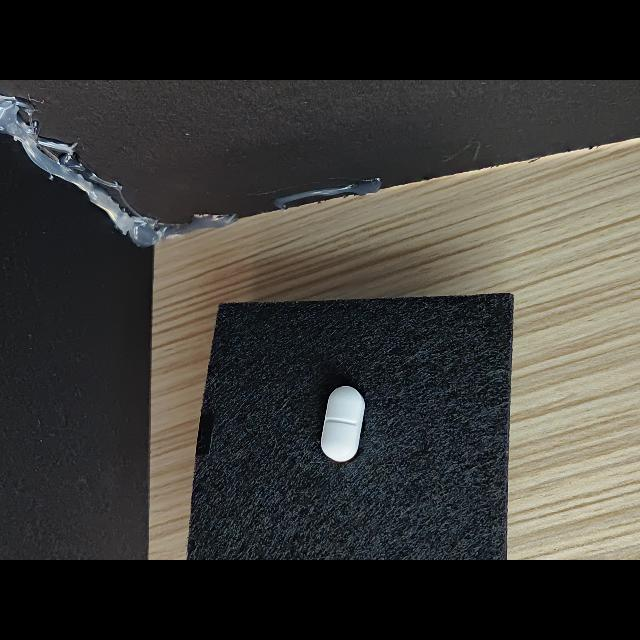Intact Pill: (321, 386, 365, 462)
